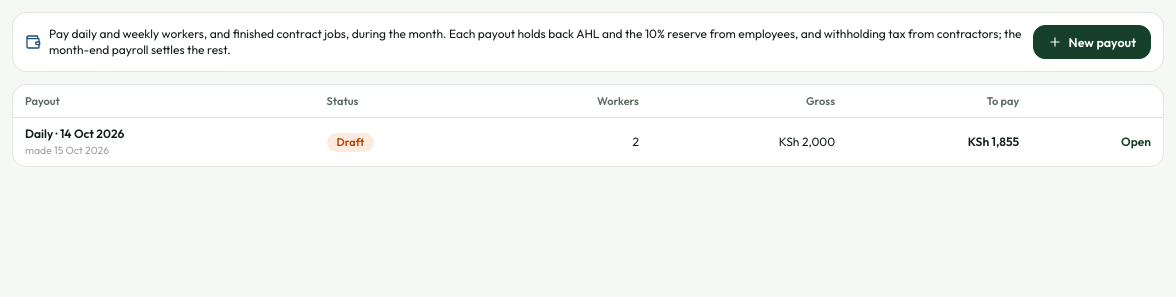
Scenario: reviewing a draft › whoever made it can't approve it while the setting is on
Click the button with aria-label "Open Daily payout" at coordinates (1136, 142), box [1121,134,1151,150]
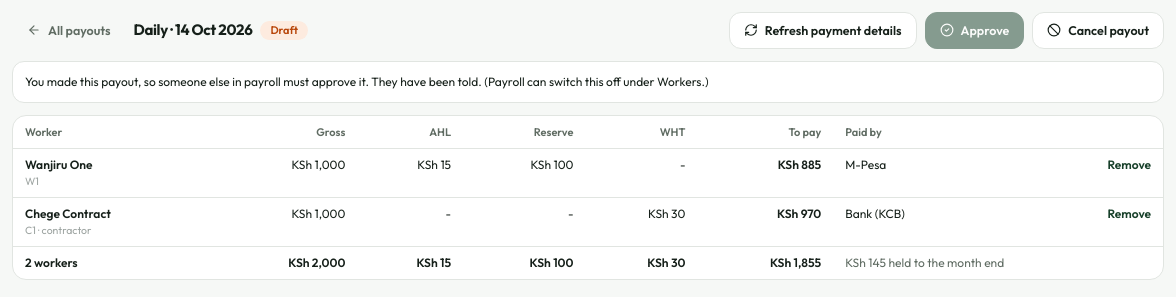
Expected: the button "Approve" is disabled, [925,12,1024,49]
Expected: the text "someone else in payroll must approve it" is shown, [25,74,709,89]
